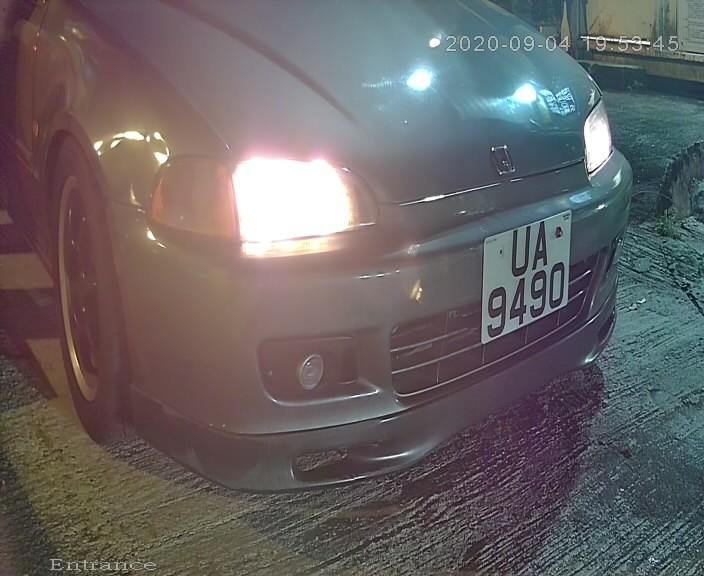License Plate: (464, 182, 582, 358)
